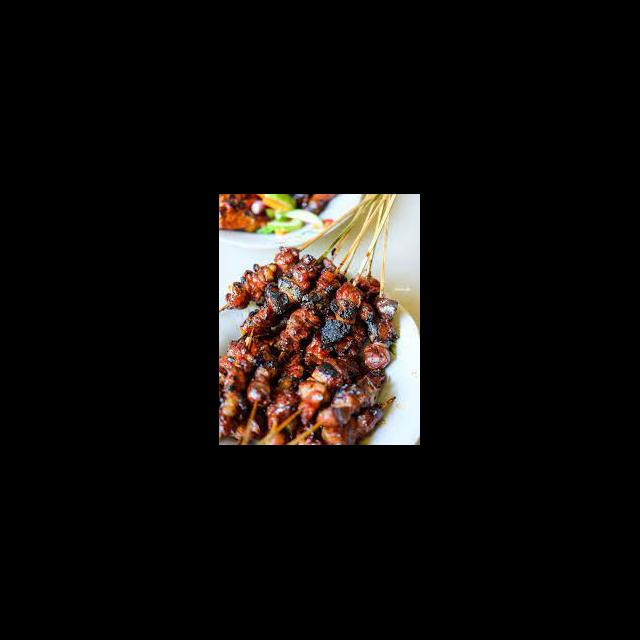food_waste: (236, 290, 370, 423)
